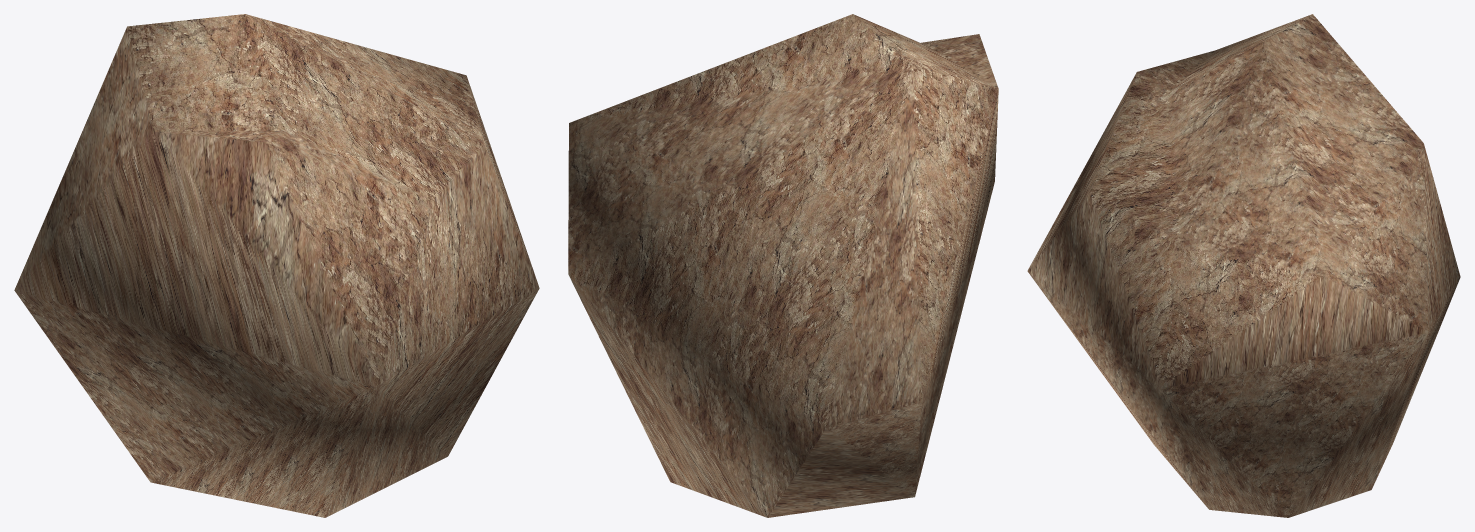
File: rock_tatt_boulder_flat_l3.fbx
3 renders of one model, left to right at view 1: azimuth 30°, elevation 25°; view 2: azimuth 150°, elevation 25°; view 3: azimuth 270°, elevation 25°, orthographic. The views are drawn at different scales.
Visible parts, largest first — view 1: mesh_node; view 2: mesh_node; view 3: mesh_node.
Part boxes in pixels (x1,y1,x2,y2): mesh_node: (14,14,539,517); mesh_node: (568,14,998,517); mesh_node: (1027,14,1460,517).
Size of the model in its own units: 6.33 by 6.87 by 6.81.
